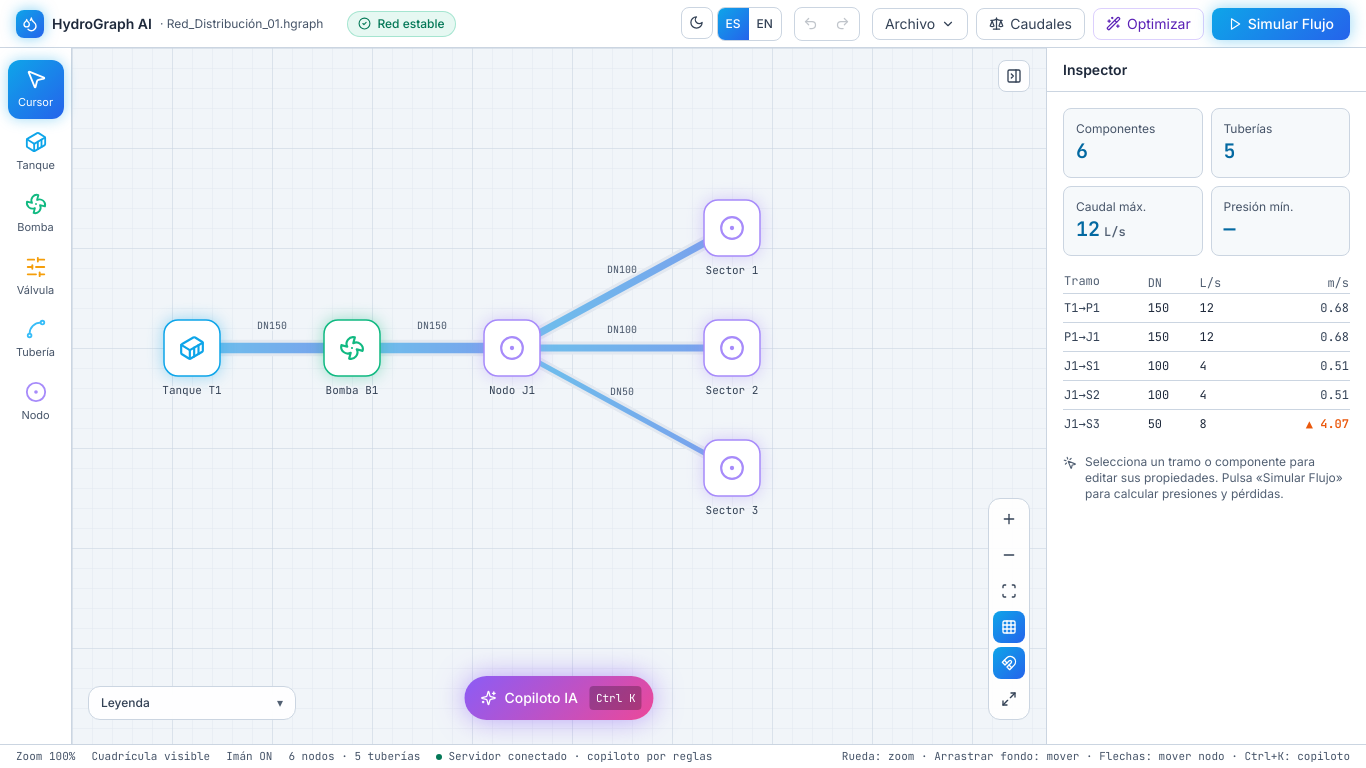
Test case: App › calcular caudales aplica la red del backend y arranca la simulación
Click the button titled "Calcula los caudales". click: click(1031, 24)
box: 976,8 -> 1085,40
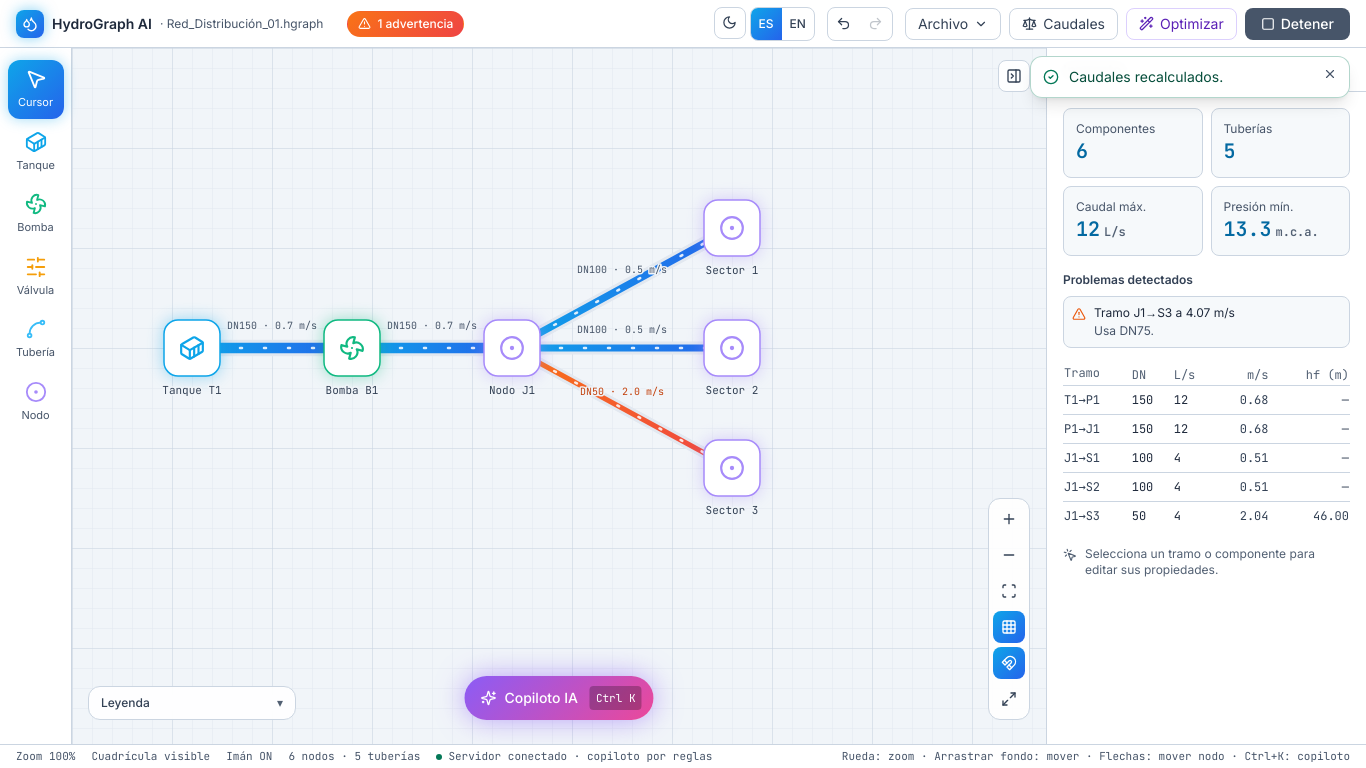
Now the text "Caudales recalculados." is shown, box 1069,68 -> 1223,85
Now the button "Detener" is shown, box 1245,8 -> 1350,40
